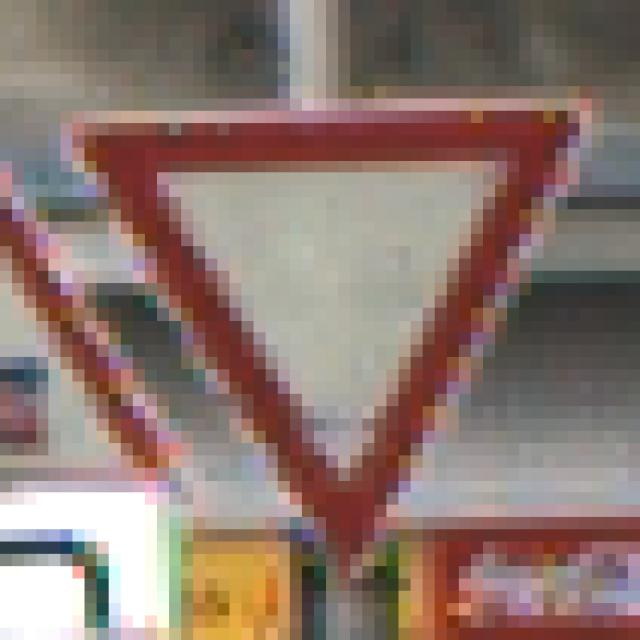Give Way: (62, 75, 581, 567)
